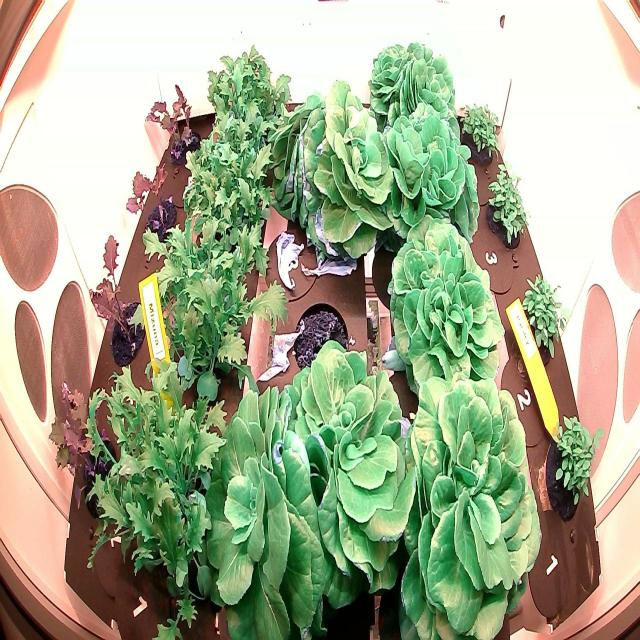Ready: (396, 361, 548, 638), (279, 333, 421, 614), (196, 383, 330, 639), (379, 213, 513, 410), (270, 69, 398, 273), (378, 97, 482, 245), (364, 27, 459, 152)
